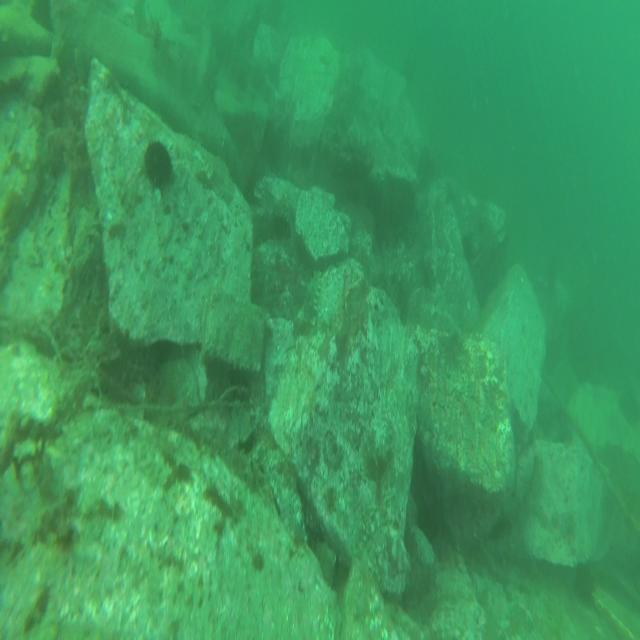echinus: (144, 133, 174, 188)
holothurian: (303, 267, 323, 324)
